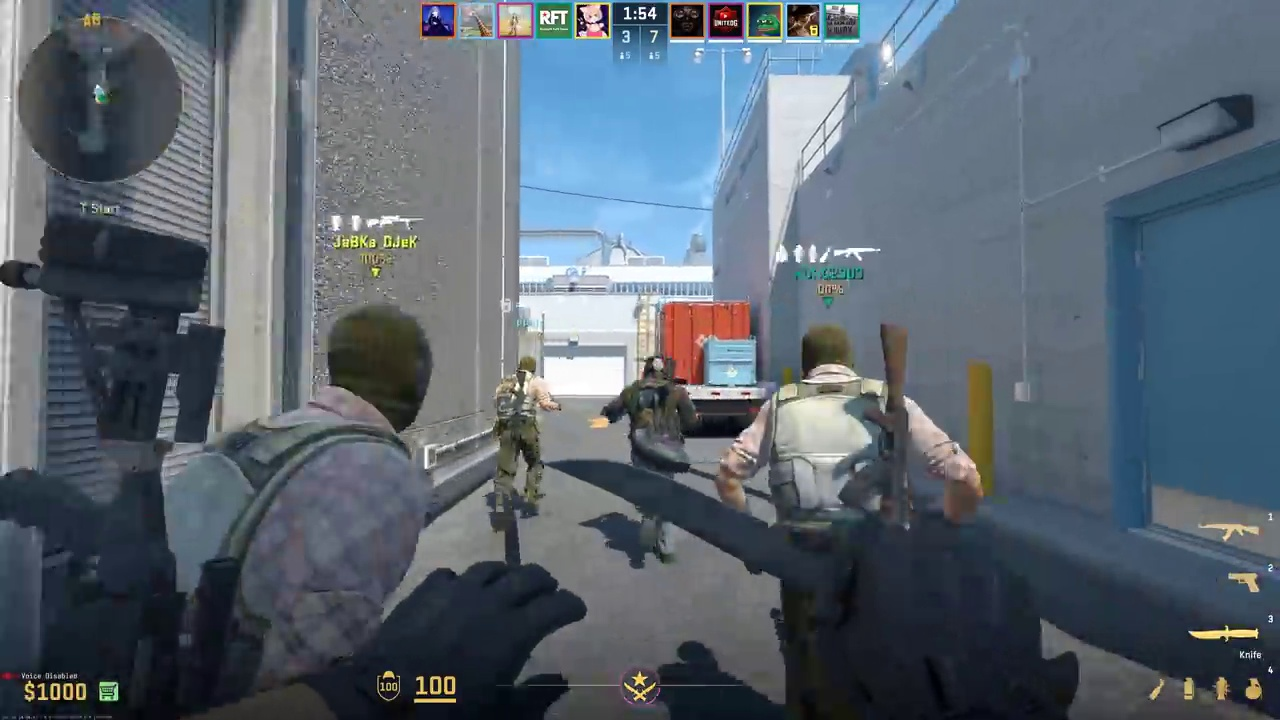Terrorist: (59, 312, 422, 694), (758, 332, 903, 520), (613, 356, 692, 557), (499, 355, 549, 513)
